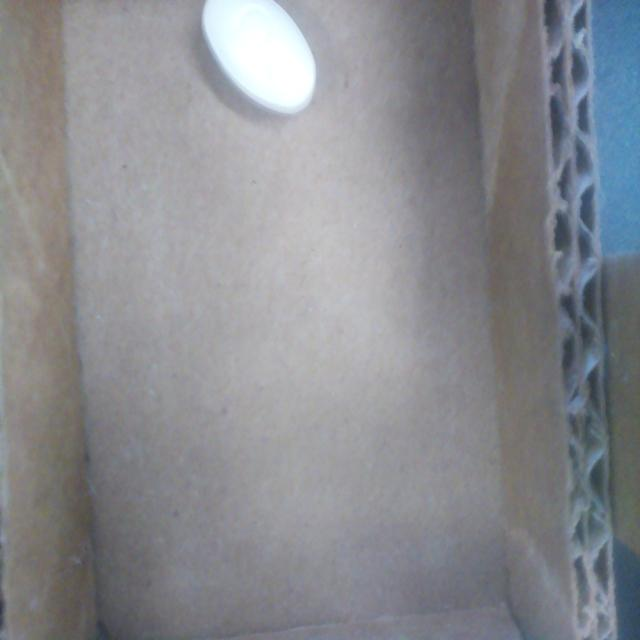pill: (202, 0, 316, 114)
